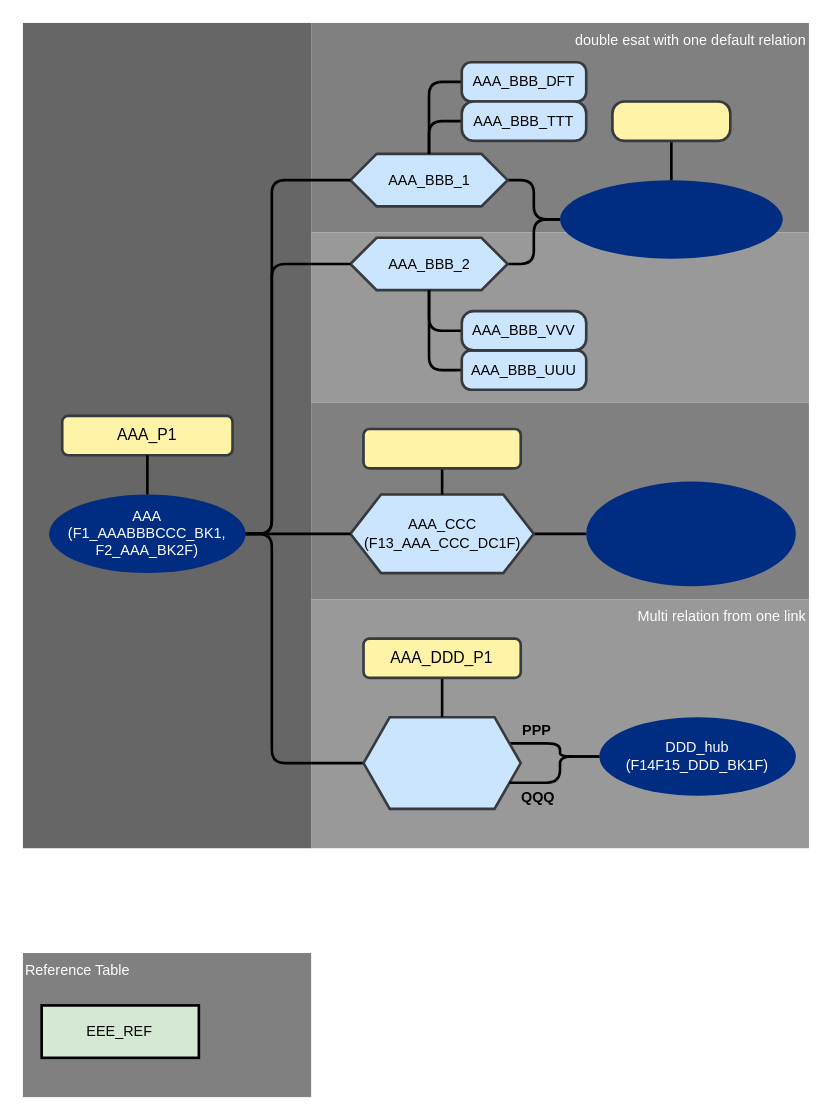
Some shapes in this 831 by 1119 pixel diagram are drawn without their labels. Each missing label, with the box of its shape:
AAA_CCC_P1: (362, 427, 521, 469)
AAA_DDD: (362, 715, 521, 810)
BBB (F1_AAABBBCCC_BK1, F3F4F5F6_BBB_BK2F): (559, 179, 782, 258)
BBB_P1 {DFT,UUU}: (610, 100, 731, 141)
CCC_hub (F1_AAABBBCCC_BK1, F20_CCC_BK2F) [F21_CCC_CU1F]: (586, 481, 795, 586)
Dependend child key link: (310, 402, 808, 599)
double esat: (310, 232, 808, 402)
single Sat: (22, 22, 310, 848)
